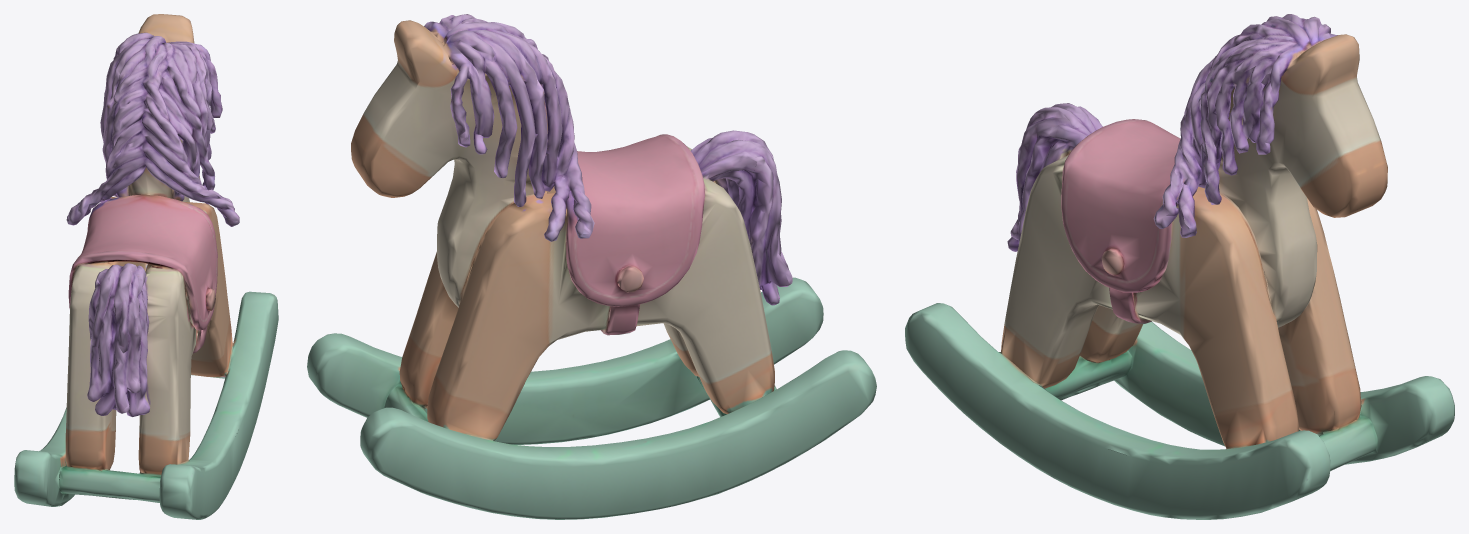
3 views of the same model, side by side, from view 1: azimuth 30°, elevation 25°; view 2: azimuth 150°, elevation 25°; view 3: azimuth 270°, elevation 25° (orthographic). The views are drawn at different scales.
Parts seen in each view (by area): view 1: repaired; view 2: repaired; view 3: repaired.
Boxes of the visible parts, x1,y1,x2,y2 form: repaired: [14, 14, 278, 519]; repaired: [307, 14, 876, 519]; repaired: [905, 14, 1454, 519].
Bounding box in the file's own units: 0.94 × 0.969 × 0.9991.
Materials: 1 (1 with a texture image).
